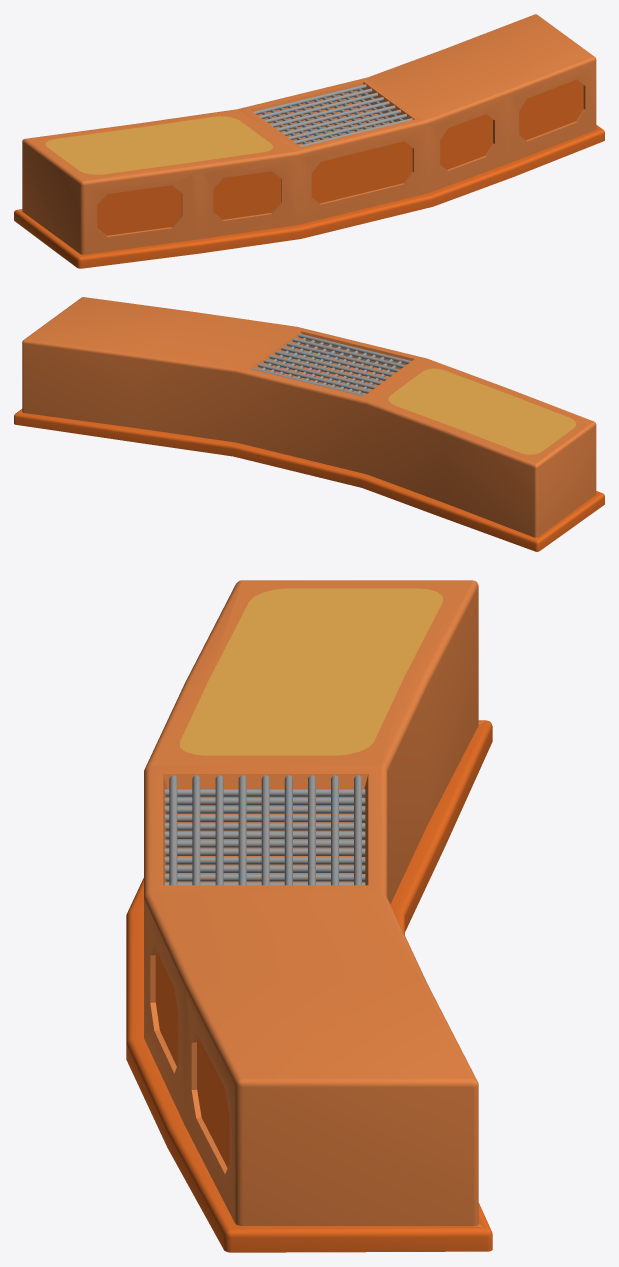
The model's file is susiMasa2.fbx.
3 renders of one model, top to bottom at view 1: azimuth 30°, elevation 25°; view 2: azimuth 150°, elevation 25°; view 3: azimuth 270°, elevation 25°, orthographic. The views are drawn at different scales.
Visible parts, largest first — view 1: susiMasa2; view 2: susiMasa2; view 3: susiMasa2.
Boxes of the visible parts, x1,y1,x2,y2 form: susiMasa2: [14, 14, 604, 268]; susiMasa2: [14, 297, 604, 551]; susiMasa2: [126, 580, 492, 1252].
Size of the model in its own units: 662 by 99.43 by 199.
